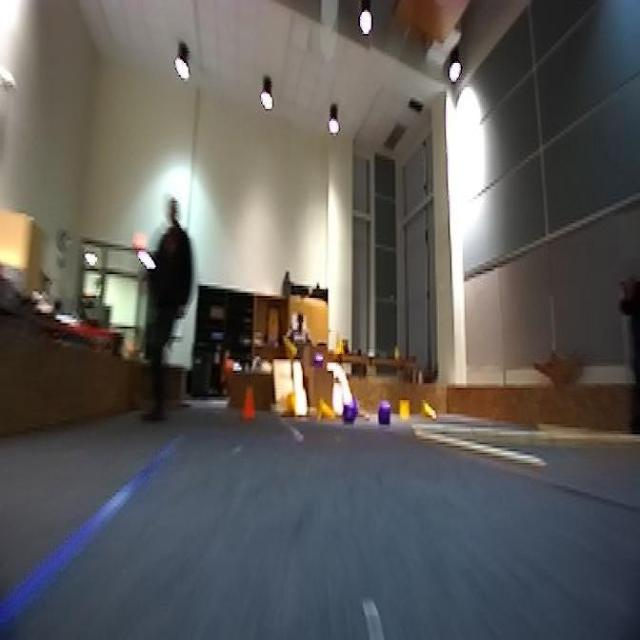frc_cone: (314, 400, 336, 427), (397, 398, 411, 429), (332, 332, 346, 361), (286, 390, 300, 417), (421, 402, 438, 424), (286, 338, 301, 362)
frc_cube: (376, 400, 394, 429), (341, 402, 354, 426), (312, 348, 326, 370)
